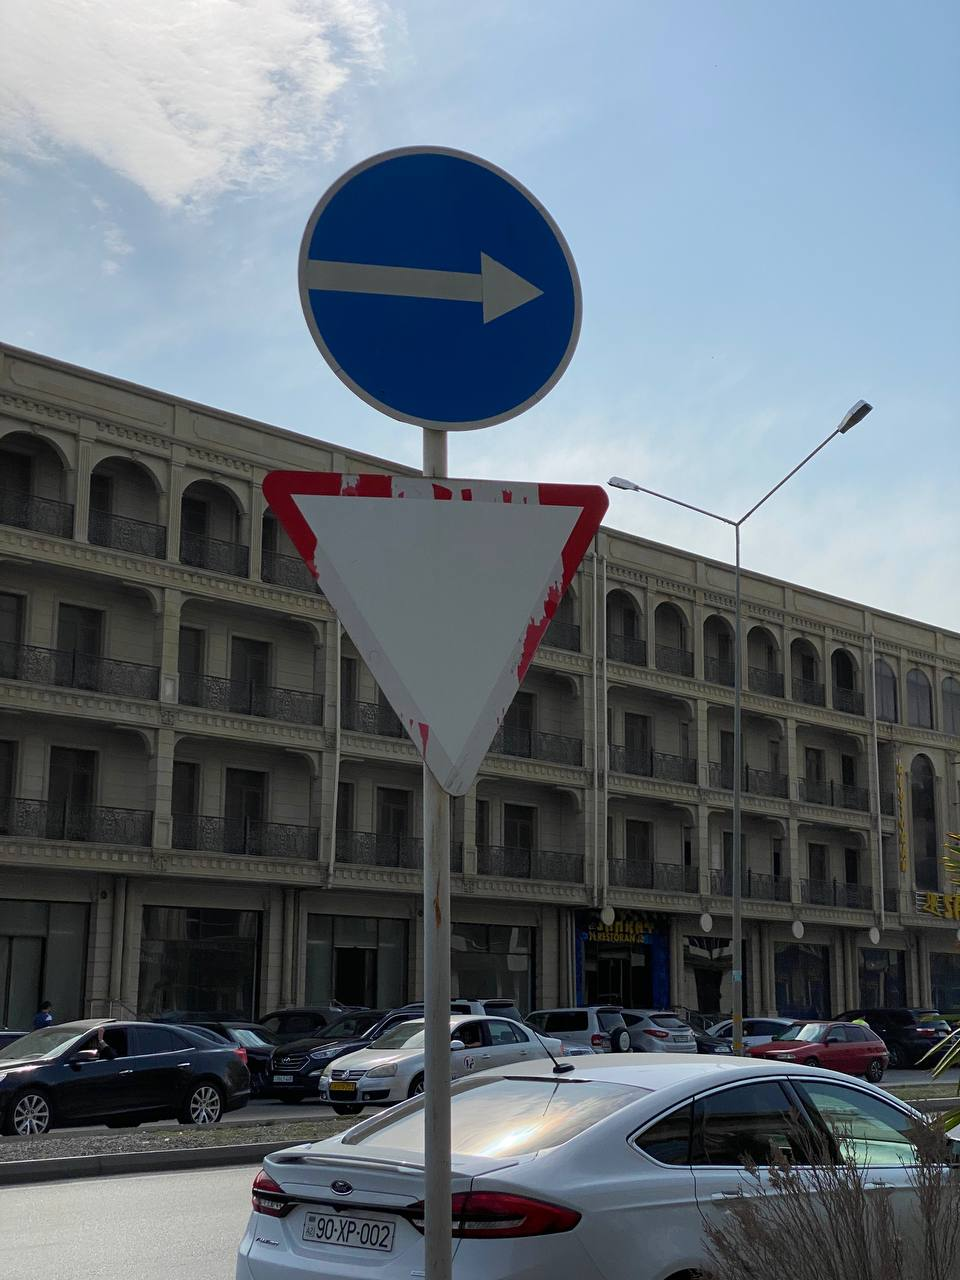Turn Right: (297, 146, 583, 432)
